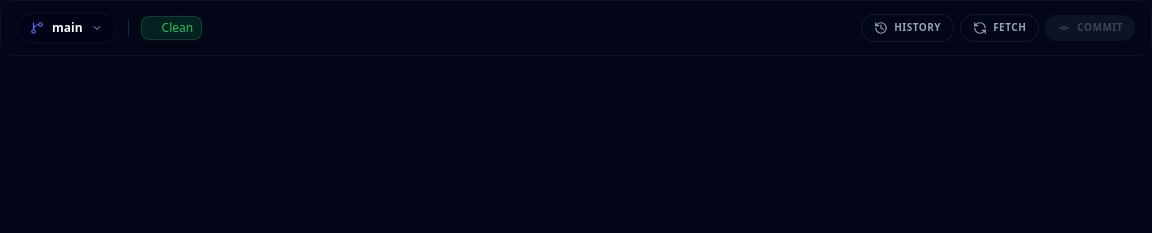
Test case: FileBrowserGitBar › clicking branch button toggles branch dropdown
The width and height of the screenshot is (1152, 233).
Click the button "main".
click(66, 28)  # box [17,13,116,43]
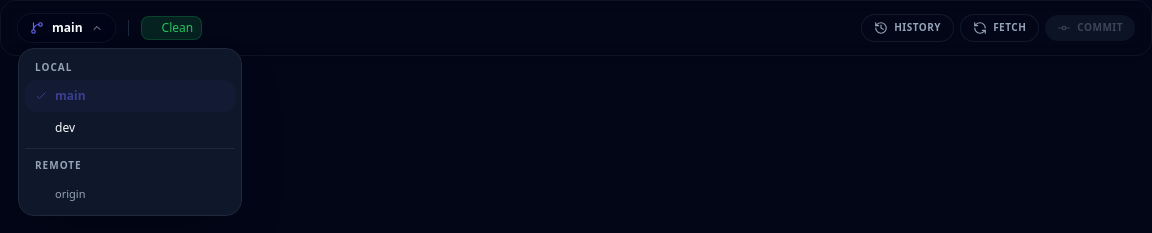
expect the text "dev" is shown: met, box [55,120,75,136]
